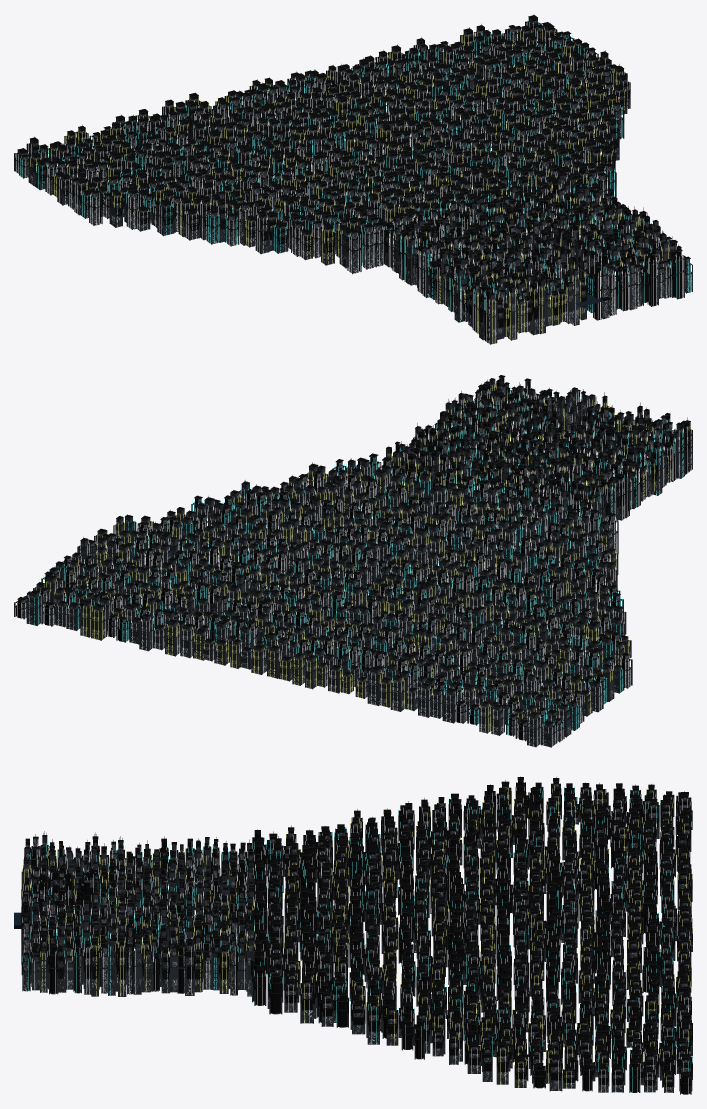
The model's file is cyberpunk_city.glb.
3 renders of one model, top to bottom at view 1: azimuth 30°, elevation 25°; view 2: azimuth 150°, elevation 25°; view 3: azimuth 270°, elevation 25°, orthographic. The views are drawn at different scales.
Visible parts, largest first — view 1: NC_FarHorizon_Skyscraper_1001, NC_FarHorizon_Skyscraper_0974, NC_FarHorizon_Skyscraper_0813, NC_FarHorizon_Skyscraper_0882, NC_FarHorizon_Skyscraper_0949, NC_Canyon_Skyscraper_0614, NC_Canyon_Skyscraper_0001; view 2: no part large enough to name; view 3: NC_FarHorizon_Skyscraper_1567, NC_FarHorizon_Skyscraper_1635, NC_FarHorizon_Skyscraper_1541, NC_Canyon_Skyscraper_0768, NC_FarHorizon_Skyscraper_1720, NC_FarHorizon_Skyscraper_1636, NC_Canyon_Skyscraper_0760, NC_FarHorizon_Skyscraper_1734, NC_FarHorizon_Skyscraper_1514.
Part boxes in pixels (bbox=[...]): NC_FarHorizon_Skyscraper_1001: bbox=[360, 223, 376, 269]; NC_FarHorizon_Skyscraper_0974: bbox=[347, 228, 361, 274]; NC_FarHorizon_Skyscraper_0813: bbox=[157, 198, 174, 236]; NC_FarHorizon_Skyscraper_0882: bbox=[255, 209, 269, 254]; NC_FarHorizon_Skyscraper_0949: bbox=[321, 223, 334, 265]; NC_Canyon_Skyscraper_0614: bbox=[647, 250, 658, 306]; NC_Canyon_Skyscraper_0001: bbox=[487, 290, 497, 344]; NC_FarHorizon_Skyscraper_1567: bbox=[300, 974, 313, 1023]; NC_FarHorizon_Skyscraper_1635: bbox=[367, 997, 379, 1044]; NC_FarHorizon_Skyscraper_1541: bbox=[269, 973, 282, 1014]; NC_Canyon_Skyscraper_0768: bbox=[185, 935, 194, 995]; NC_FarHorizon_Skyscraper_1720: bbox=[496, 1040, 508, 1084]; NC_FarHorizon_Skyscraper_1636: bbox=[386, 1003, 398, 1045]; NC_Canyon_Skyscraper_0760: bbox=[118, 935, 126, 996]; NC_FarHorizon_Skyscraper_1734: bbox=[549, 1053, 562, 1091]; NC_FarHorizon_Skyscraper_1514: bbox=[254, 966, 266, 1005].
Size of the model in its own units: 1554 by 226 by 1578.
Materials: 35 (14 with a texture image).
